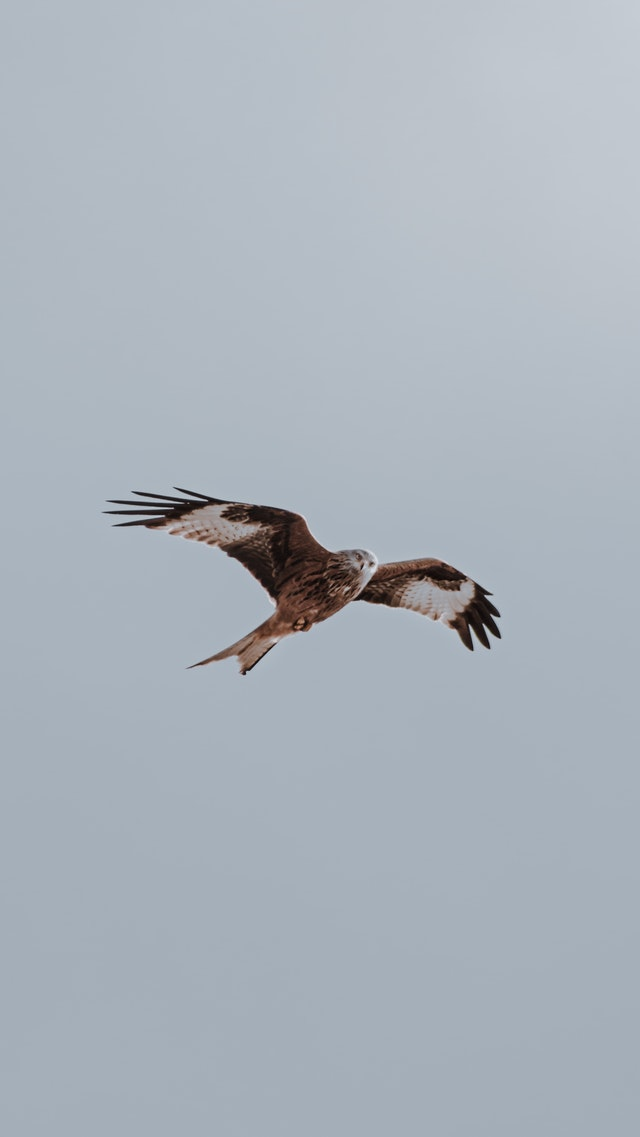bird: (105, 483, 503, 679)
